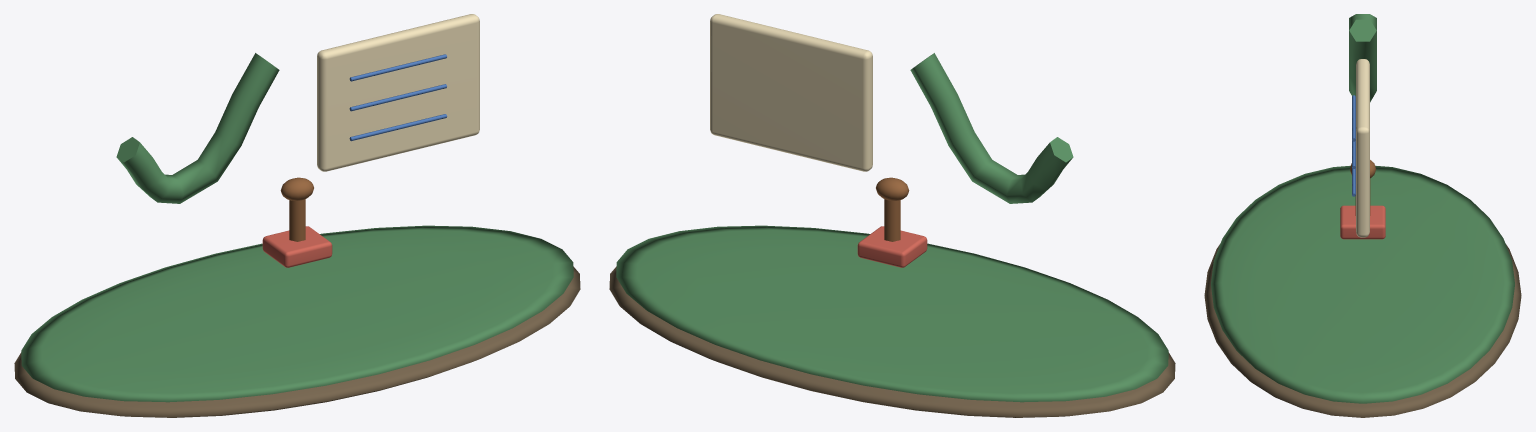
Rendered from complete-second-correct-formal-pattern.glb.
3 views of the same model, side by side, from view 1: azimuth 30°, elevation 25°; view 2: azimuth 150°, elevation 25°; view 3: azimuth 270°, elevation 25° (orthographic). The views are drawn at different scales.
Parts seen in each view (by area): view 1: complete-second-correct-formal-pattern_surface_01, complete-second-correct-formal-pattern_surface_02, complete-second-correct-formal-pattern_surface_00, complete-second-correct-formal-pattern_surface_04, complete-second-correct-formal-pattern_surface_03, complete-second-correct-formal-pattern_surface_05; view 2: complete-second-correct-formal-pattern_surface_01, complete-second-correct-formal-pattern_surface_02, complete-second-correct-formal-pattern_surface_00, complete-second-correct-formal-pattern_surface_04, complete-second-correct-formal-pattern_surface_05; view 3: complete-second-correct-formal-pattern_surface_01, complete-second-correct-formal-pattern_surface_00, complete-second-correct-formal-pattern_surface_02, complete-second-correct-formal-pattern_surface_04, complete-second-correct-formal-pattern_surface_03.
Boxes of the visible parts, left/top/right/bottom form: complete-second-correct-formal-pattern_surface_01: left=21, top=53, right=573, bottom=402; complete-second-correct-formal-pattern_surface_02: left=317, top=14, right=479, bottom=171; complete-second-correct-formal-pattern_surface_00: left=14, top=266, right=580, bottom=417; complete-second-correct-formal-pattern_surface_04: left=262, top=226, right=332, bottom=267; complete-second-correct-formal-pattern_surface_03: left=349, top=54, right=447, bottom=141; complete-second-correct-formal-pattern_surface_05: left=280, top=177, right=313, bottom=241; complete-second-correct-formal-pattern_surface_01: left=616, top=53, right=1168, bottom=402; complete-second-correct-formal-pattern_surface_02: left=710, top=14, right=872, bottom=171; complete-second-correct-formal-pattern_surface_00: left=609, top=266, right=1175, bottom=417; complete-second-correct-formal-pattern_surface_04: left=857, top=226, right=927, bottom=267; complete-second-correct-formal-pattern_surface_05: left=876, top=177, right=909, bottom=241; complete-second-correct-formal-pattern_surface_01: left=1211, top=14, right=1514, bottom=403; complete-second-correct-formal-pattern_surface_00: left=1204, top=244, right=1521, bottom=417; complete-second-correct-formal-pattern_surface_02: left=1356, top=59, right=1369, bottom=237; complete-second-correct-formal-pattern_surface_04: left=1340, top=205, right=1385, bottom=239; complete-second-correct-formal-pattern_surface_03: left=1352, top=95, right=1355, bottom=196.
Size of the model in its own units: 4.56 by 2.38 by 2.5.
